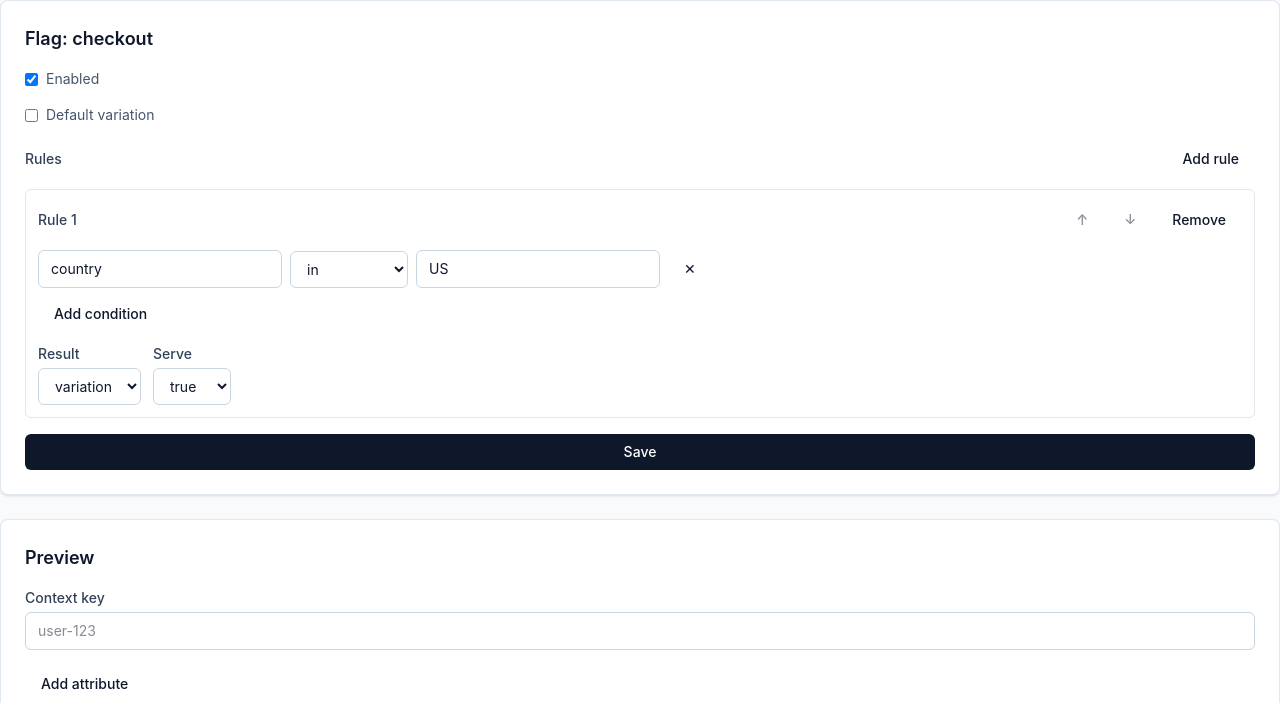
Test case: FlagEditorRoute › refetches config, shows a conflict notice, and retains edits on JEALOUS_CAT
Click the checkbox labelled "Enabled": (32, 79) x1=25 y1=72 x2=38 y2=86
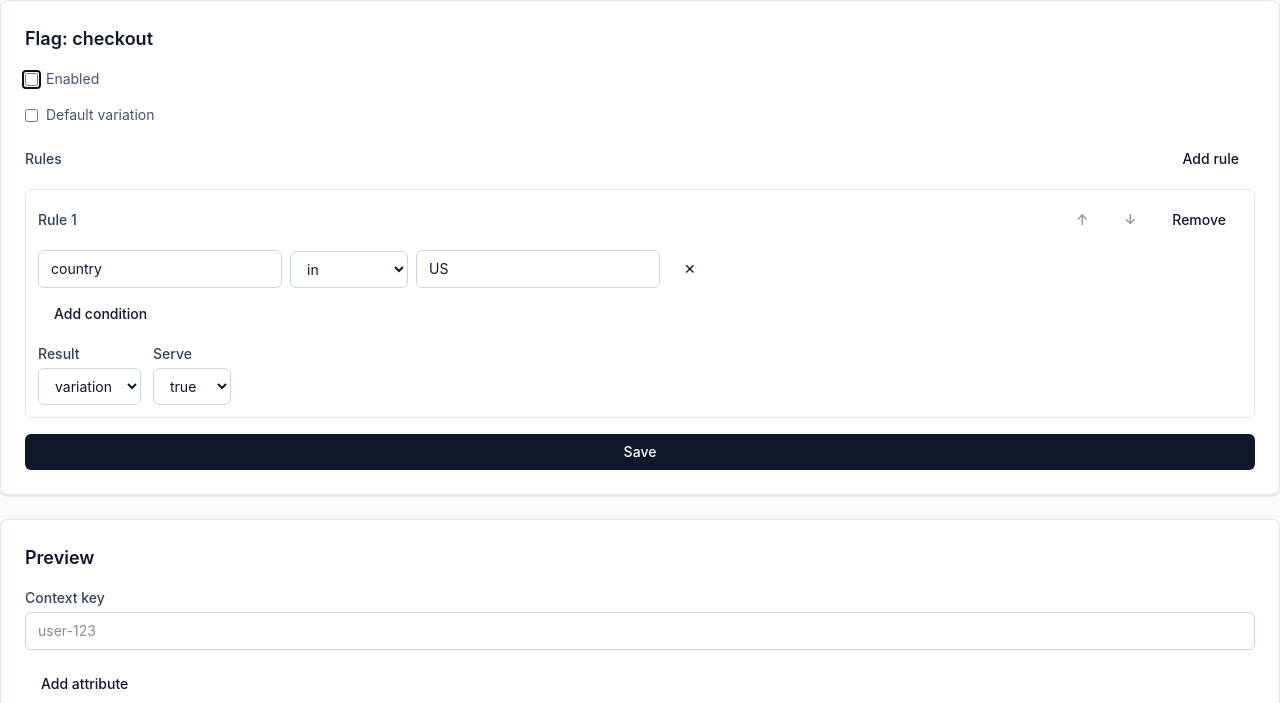
Click the button "Save": (640, 452) x1=25 y1=434 x2=1255 y2=470
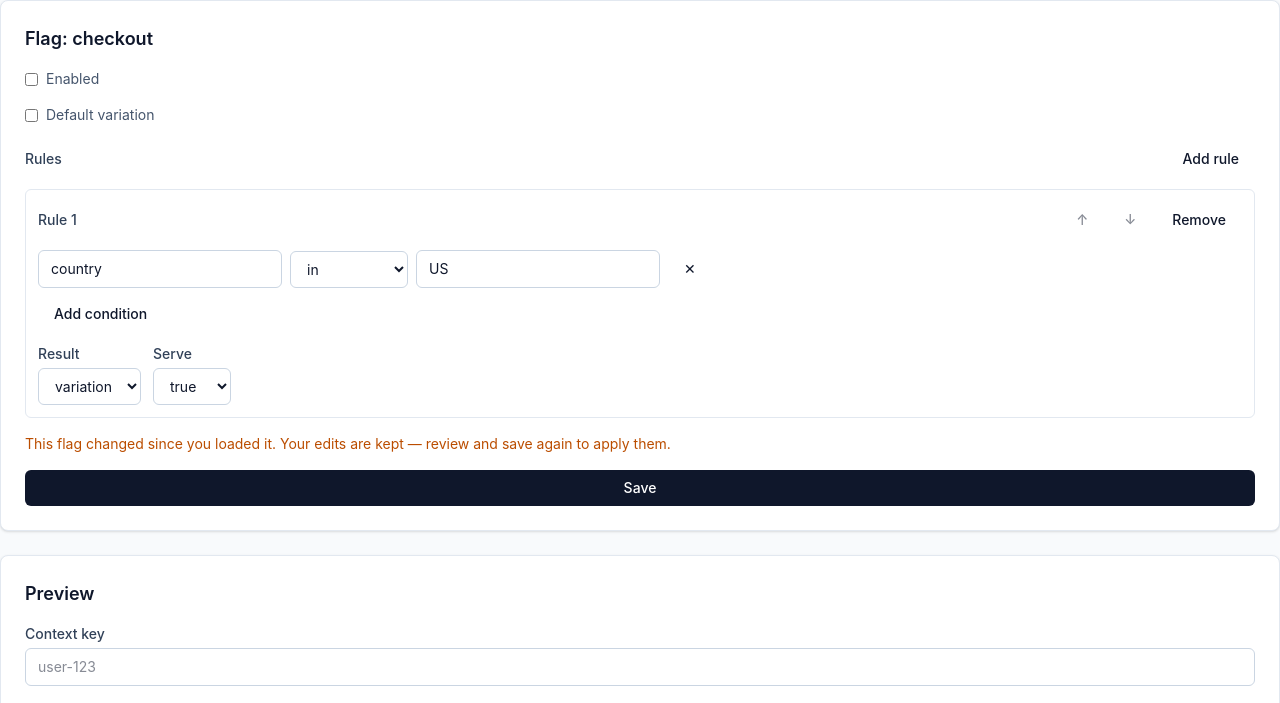
Expected: the checkbox labelled "Enabled" is not checked, x1=25 y1=72 x2=38 y2=86
Expected: the text "changed since you loaded it" is shown, x1=25 y1=435 x2=671 y2=452
